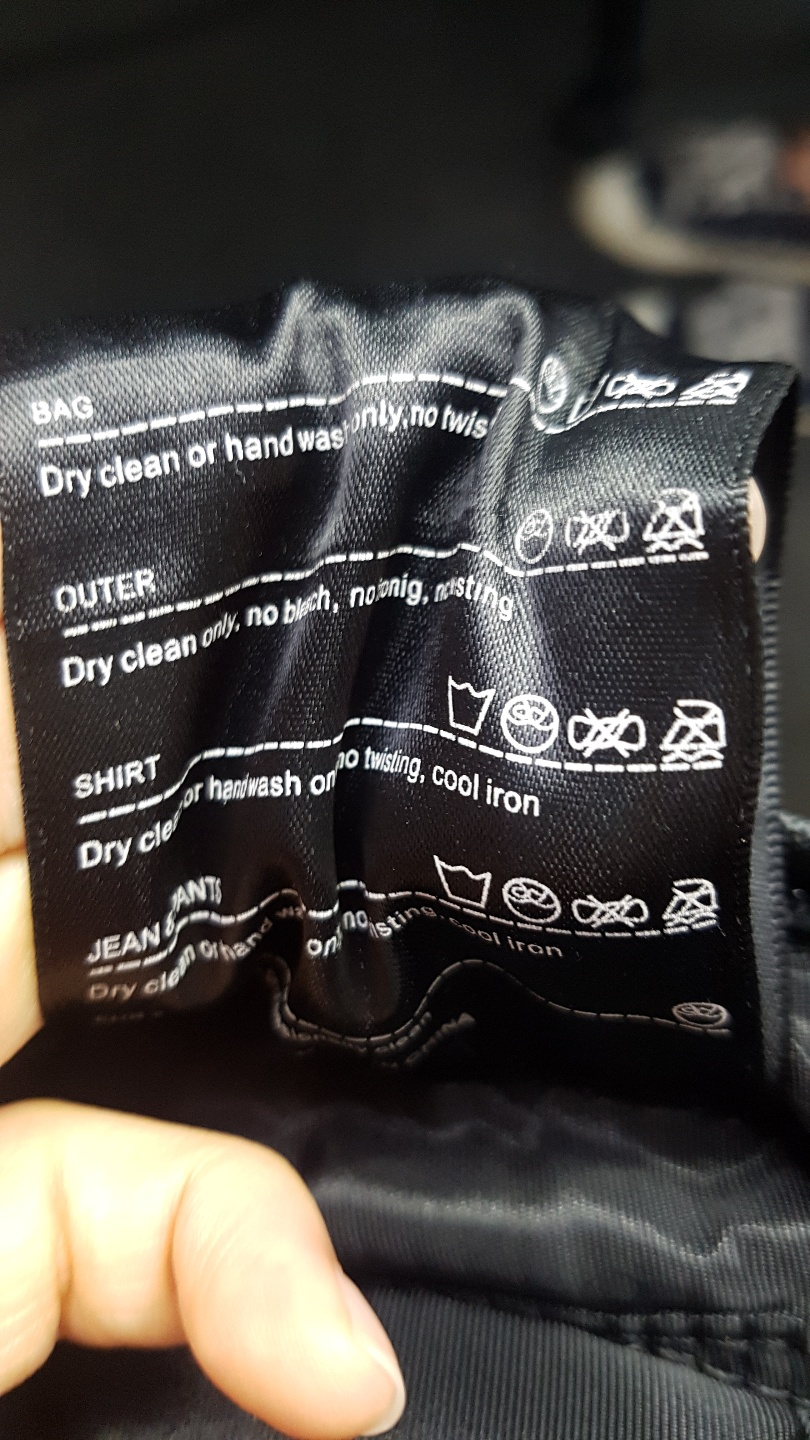do_not_iron: (638, 480, 711, 555), (658, 695, 730, 766), (659, 872, 721, 926)
